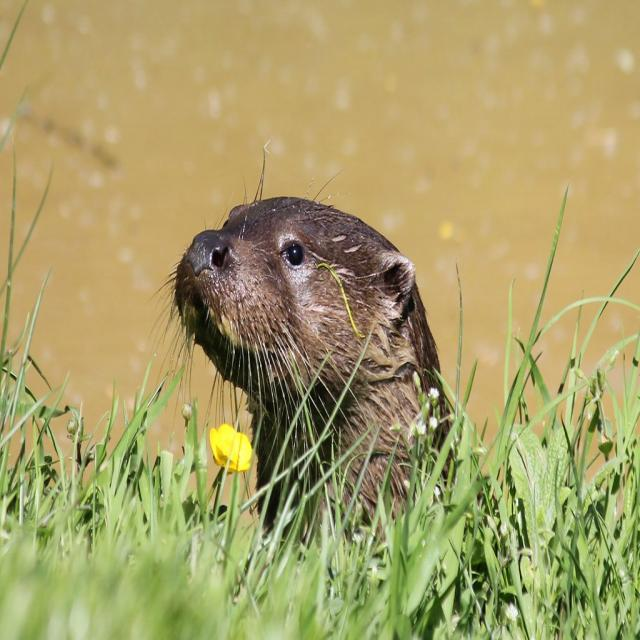otter: (178, 196, 448, 540)
